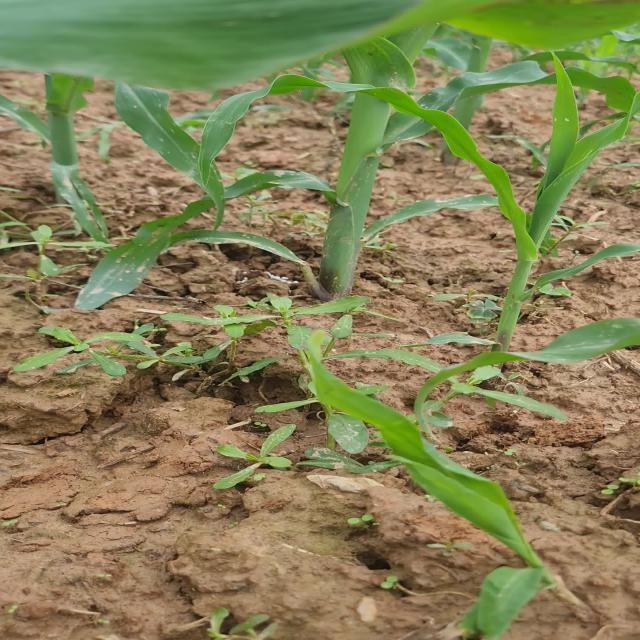maize: (6, 2, 640, 296), (329, 318, 640, 605)
weed: (30, 300, 278, 398), (219, 433, 311, 477)
